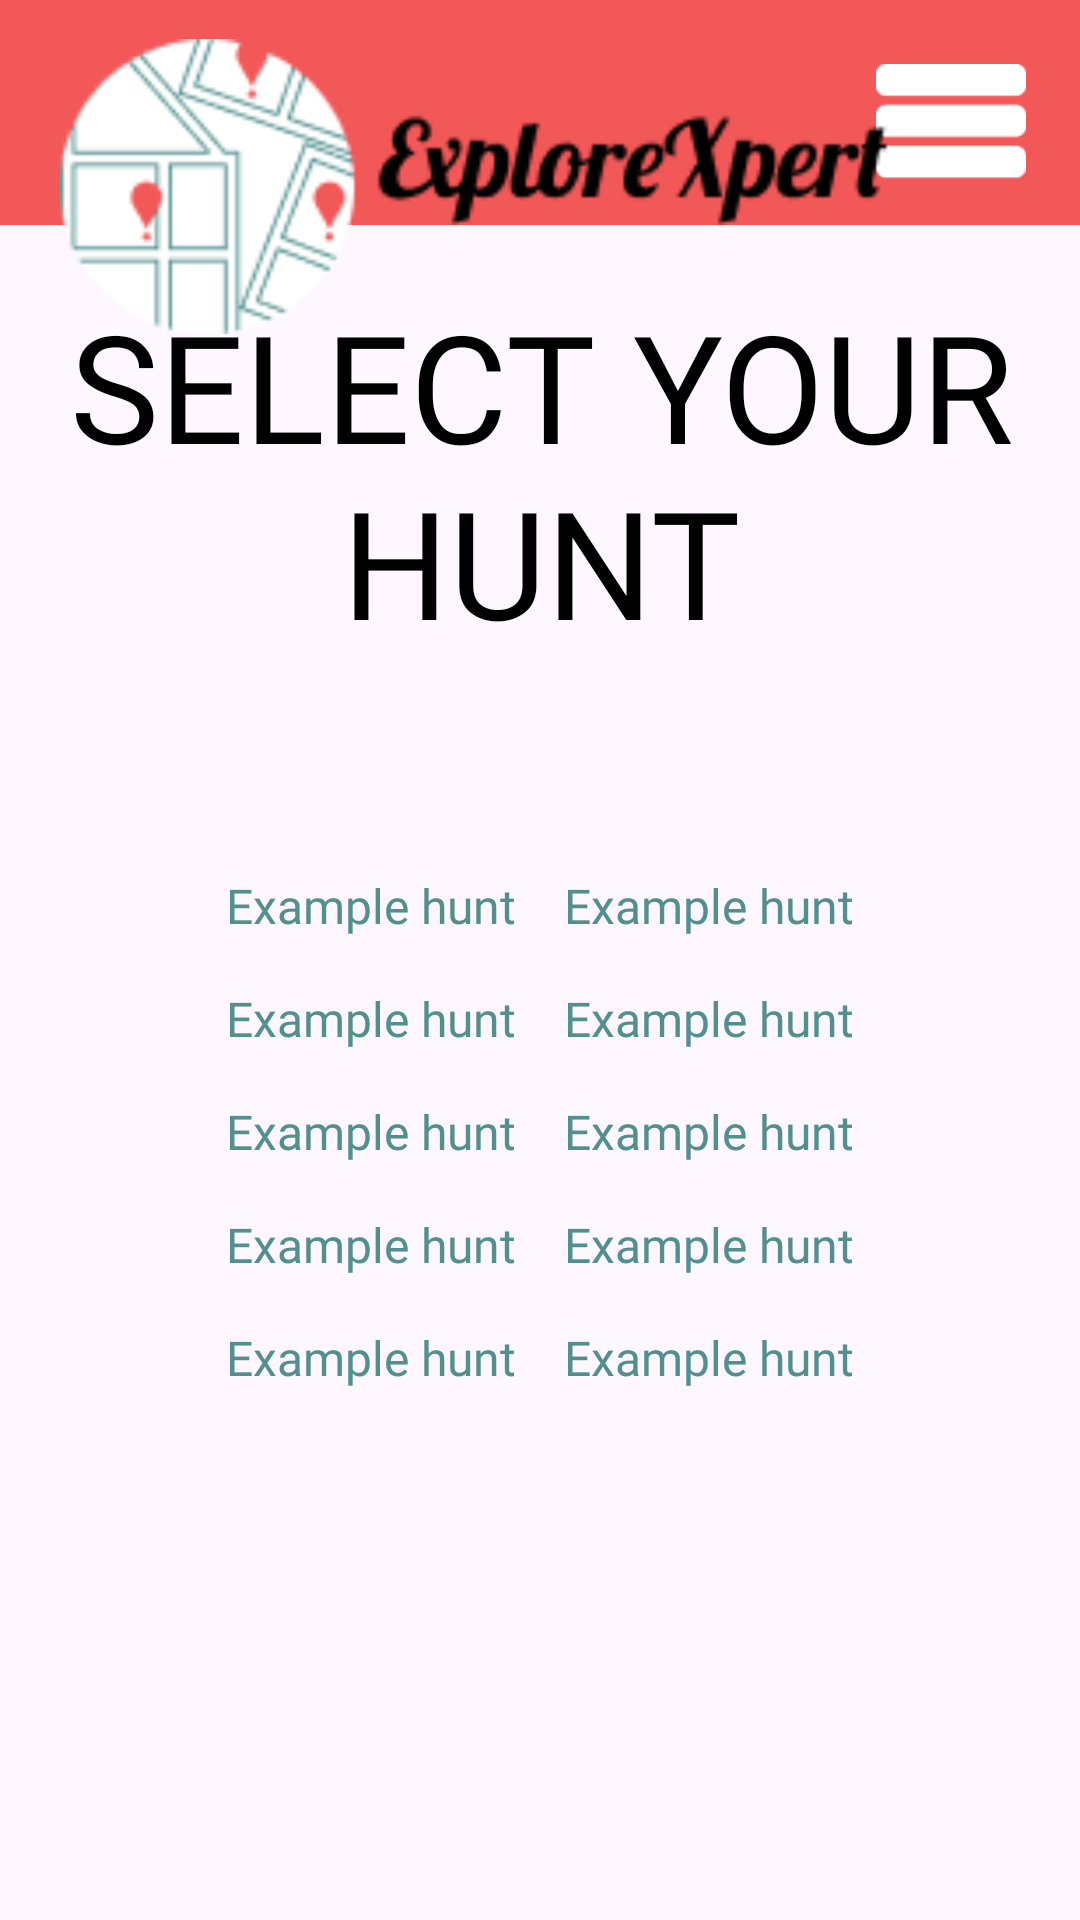

Icon click points for this 1080*1920 phone screenshot, format point (x, y):
Menu Button: point (951, 130)
